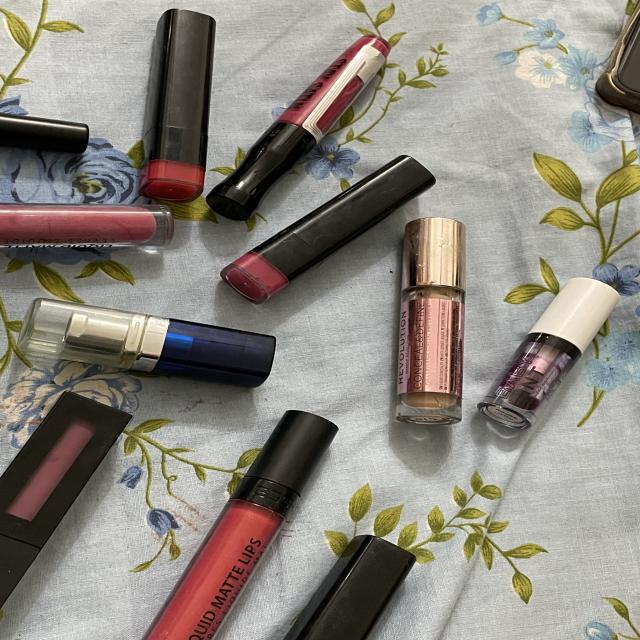Tint: (469, 259, 640, 448)
concealer: (372, 202, 488, 434)
lip gloss: (123, 405, 348, 640), (199, 28, 403, 220), (0, 386, 159, 608), (0, 196, 187, 262)
lip stick: (214, 148, 453, 302), (15, 288, 293, 386), (123, 0, 229, 202)
